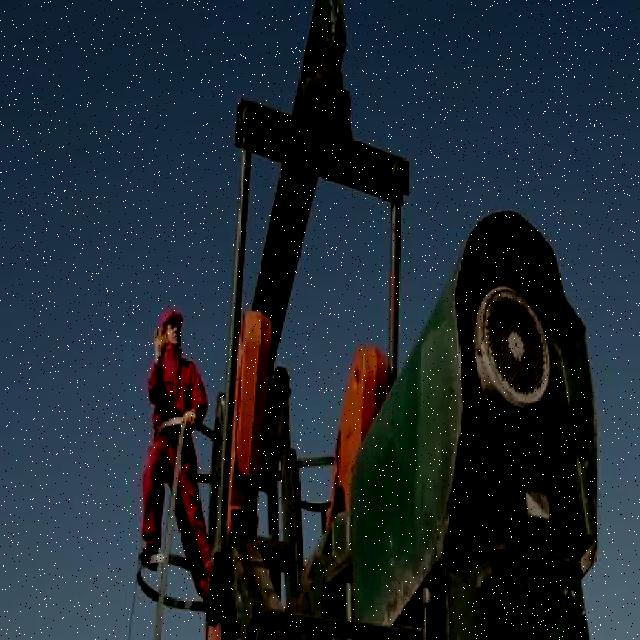Gloves: (180, 408, 198, 434), (154, 328, 168, 356)
Helmet: (159, 308, 184, 334)
Mask: (137, 338, 210, 594)
